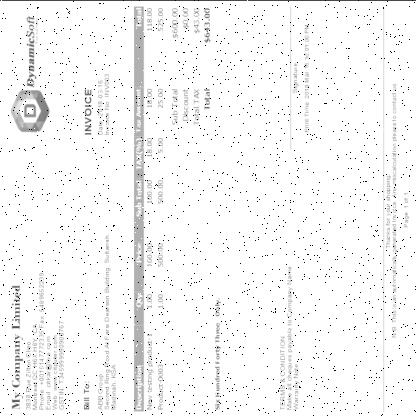Paragraph: (10, 270, 65, 411), (384, 81, 410, 338), (83, 232, 117, 411), (169, 5, 213, 127), (278, 263, 300, 412), (84, 72, 110, 135), (214, 296, 222, 411), (304, 23, 310, 132)
Table: (134, 6, 164, 412)
